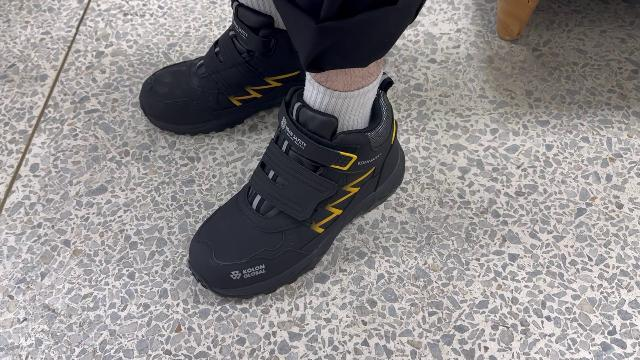shoe_worn: (178, 68, 407, 303), (139, 4, 322, 137)
